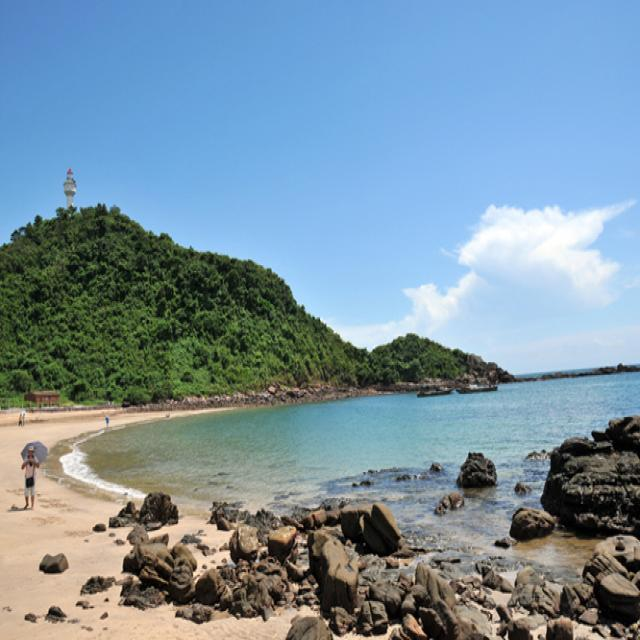island: (0, 163, 512, 410)
